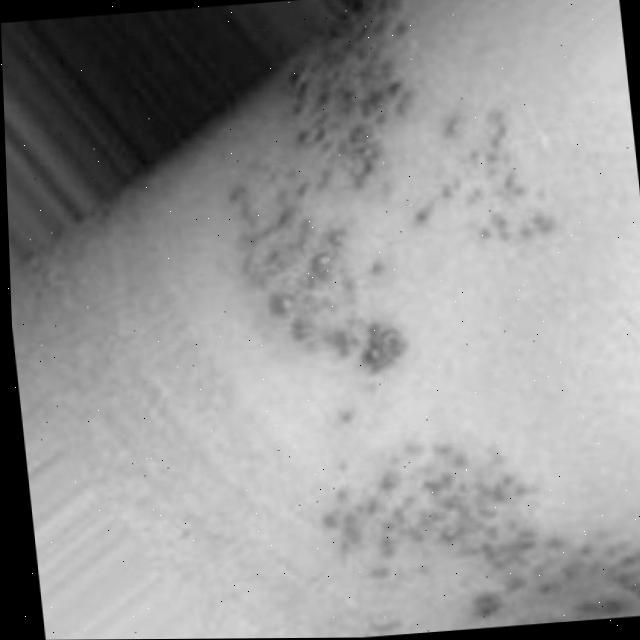Shingles: (199, 0, 568, 387), (312, 418, 640, 638)
